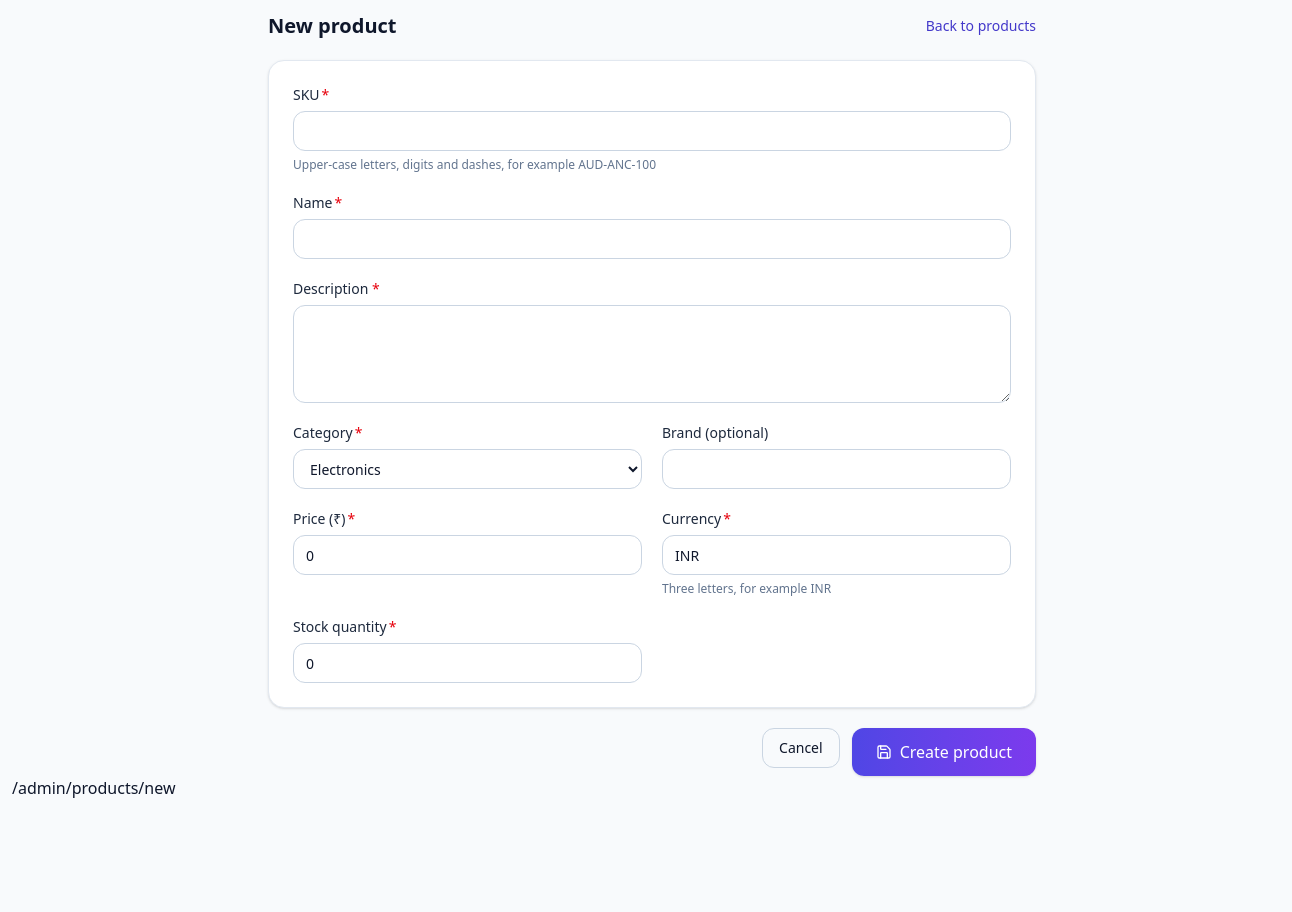
ProductFormPage (admin) › shows the duplicate-SKU error from a 409 on the SKU field
This screenshot has width=1292, height=912.
In the field labelled "SKU*": (652, 131) 293,111 -> 1011,151, type "AUD-ANC-100"
In the field labelled "Name*": (652, 239) 293,219 -> 1011,259, type "Test Lamp"
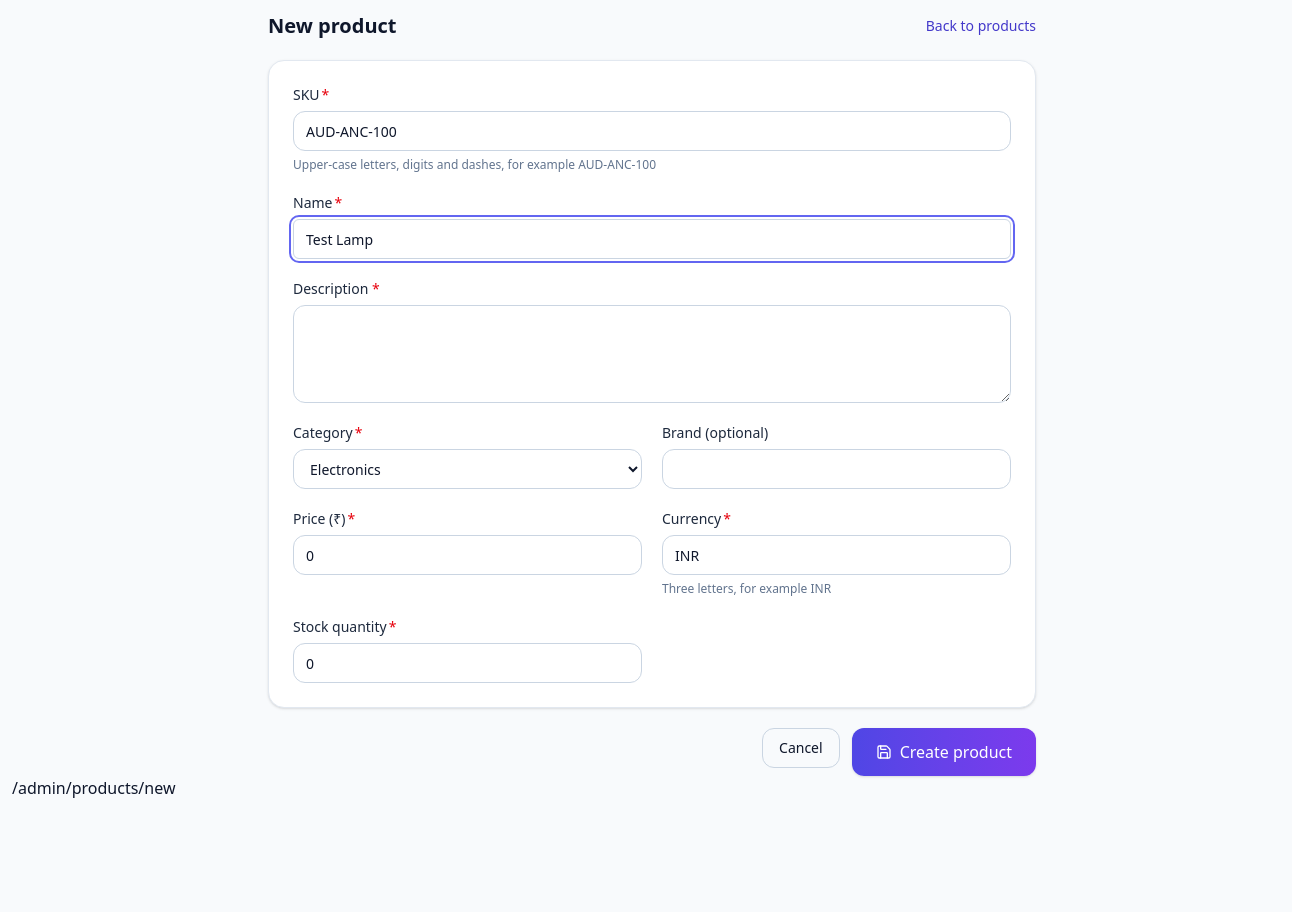
In the text box labelled "Description *": (652, 354) 293,305 -> 1011,403, type "A small lamp for the desk."
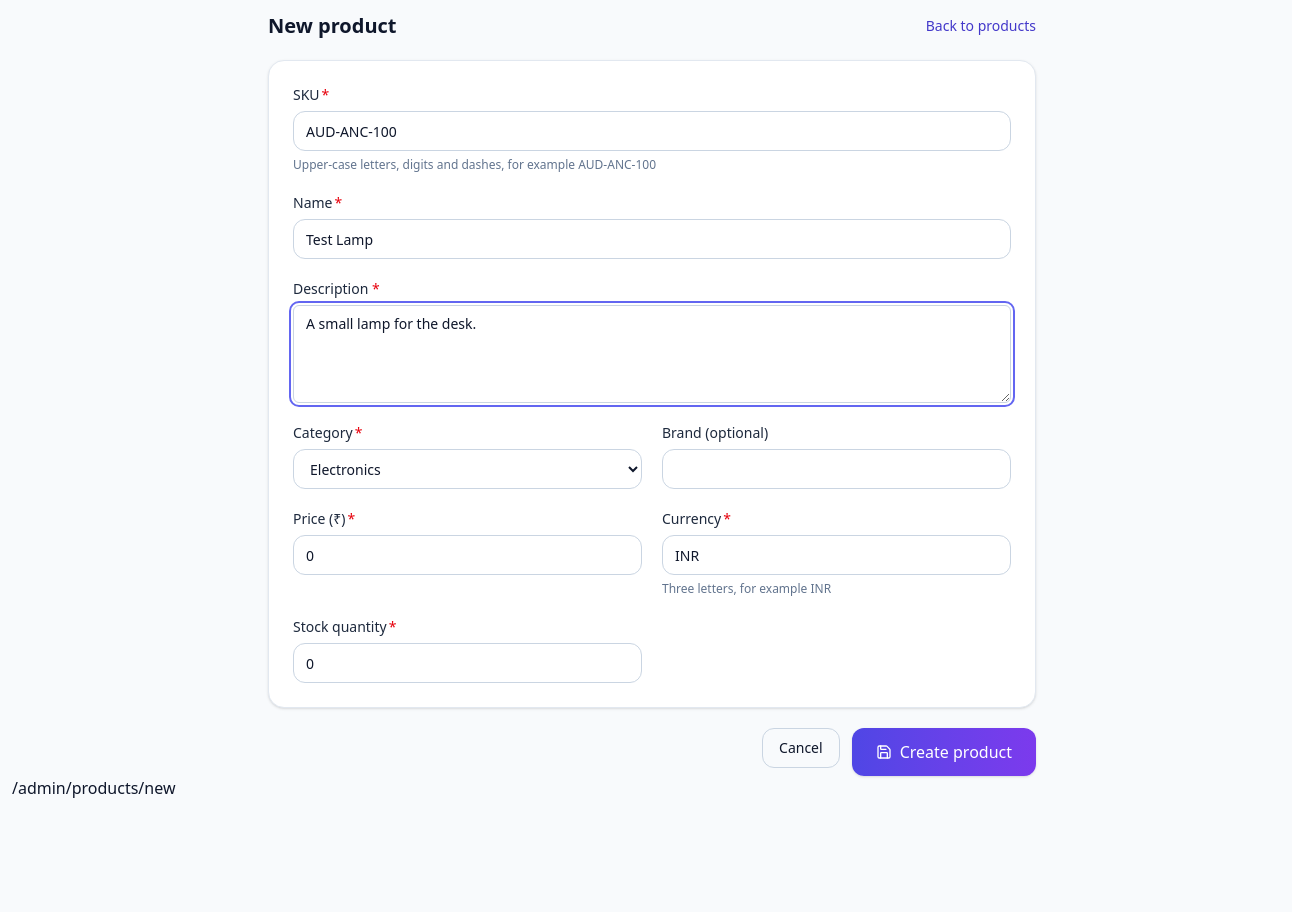
Select "Home" in the dropdown labelled "Category*": (468, 469) 293,449 -> 642,489
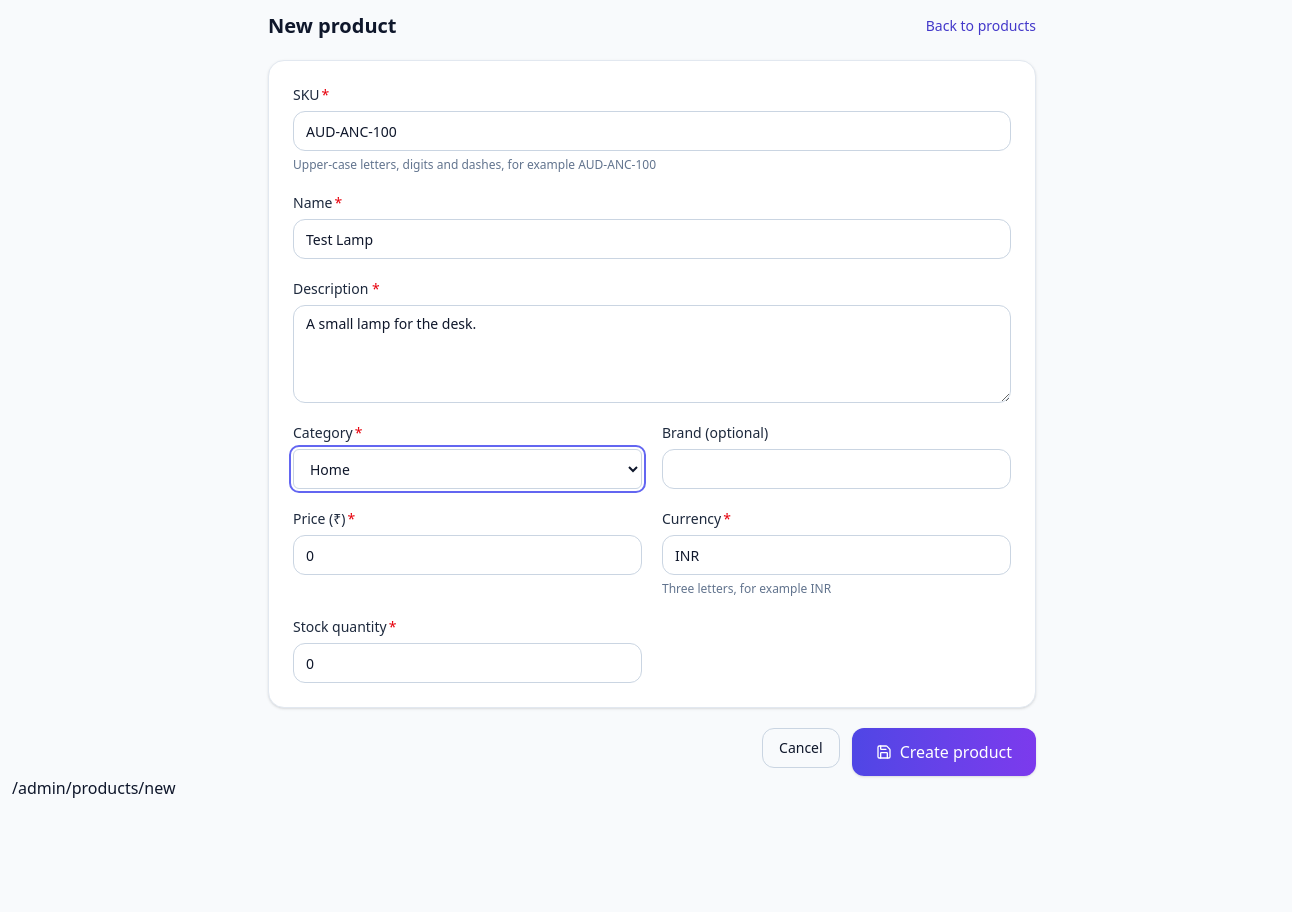
In the number field labelled "Price (₹)*": (468, 555) 293,535 -> 642,575, type "999"
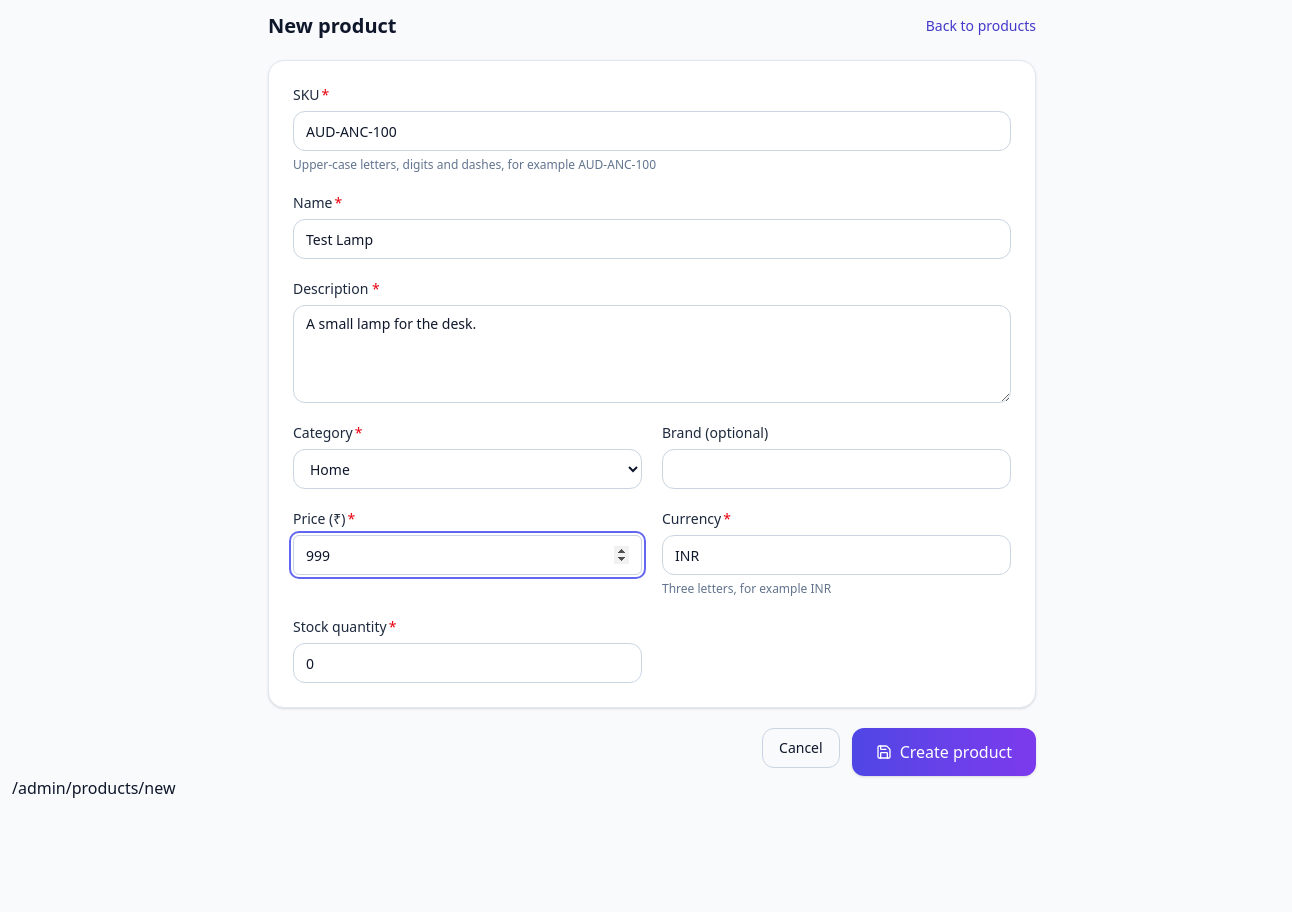
In the number field labelled "Stock quantity*": (468, 663) 293,643 -> 642,683, type "12"
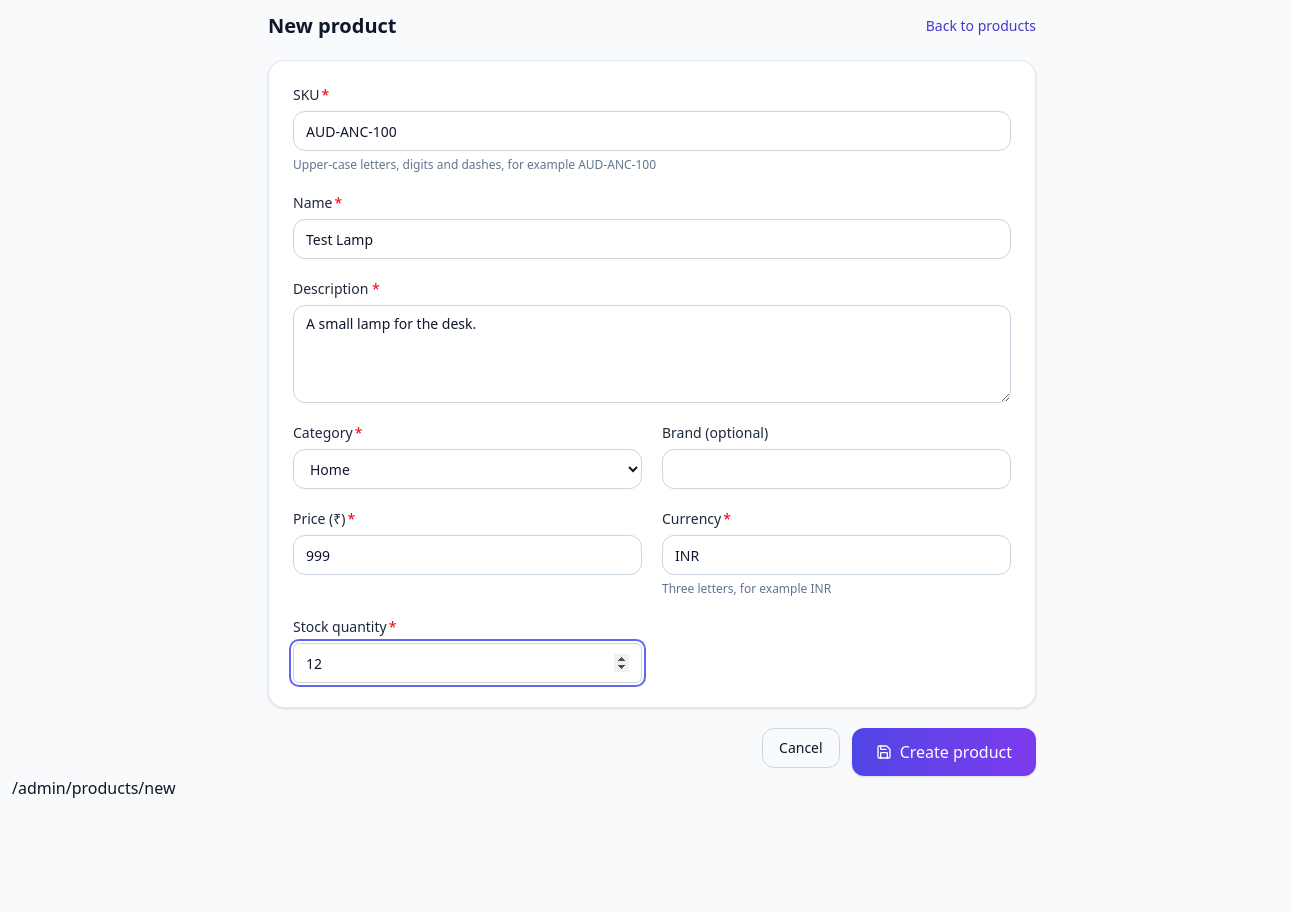
Click the button "Create product": (944, 752) 852,728 -> 1036,776
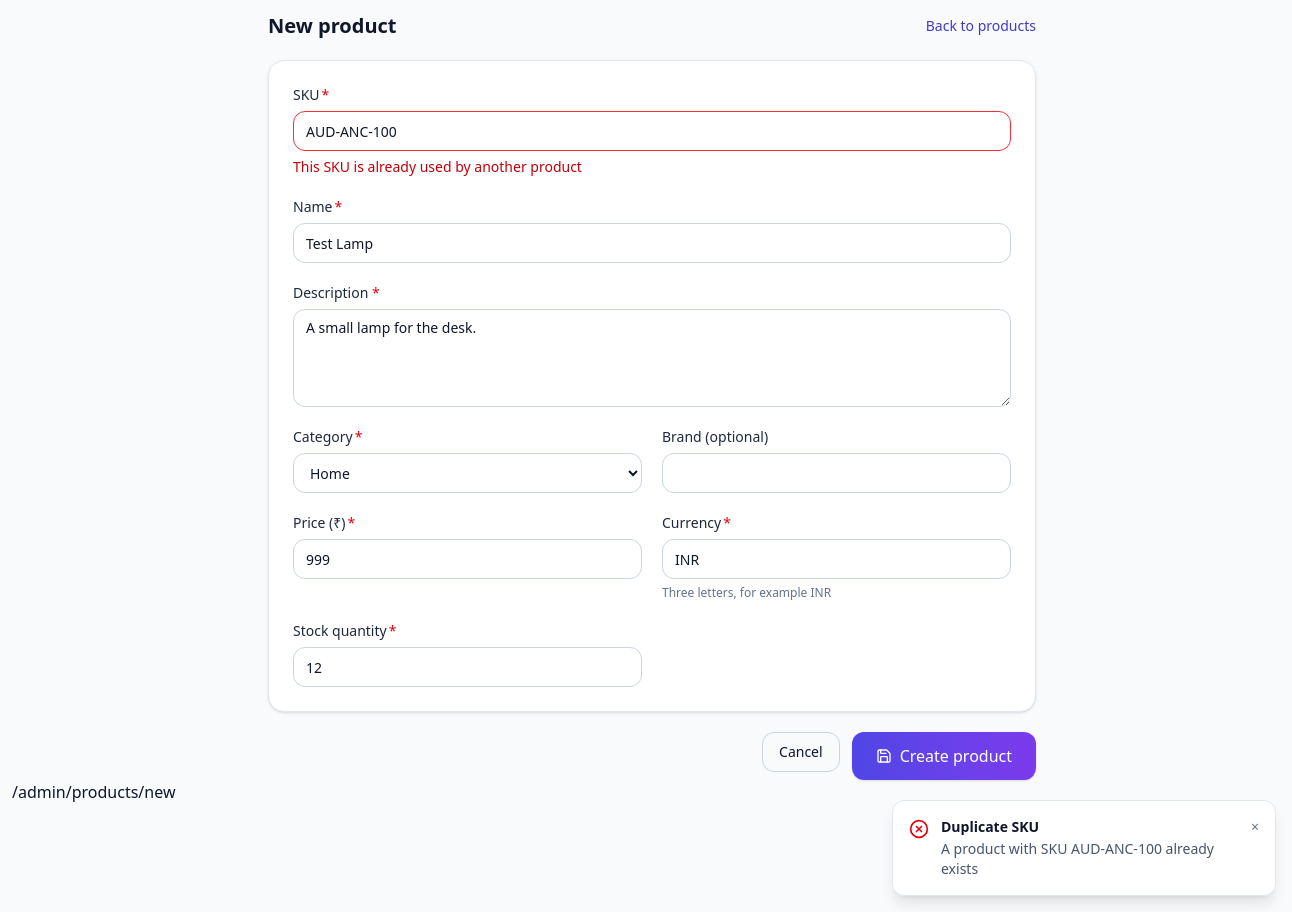
Expected: the text "This SKU is already used by another product" is shown, 293,157 -> 582,176
